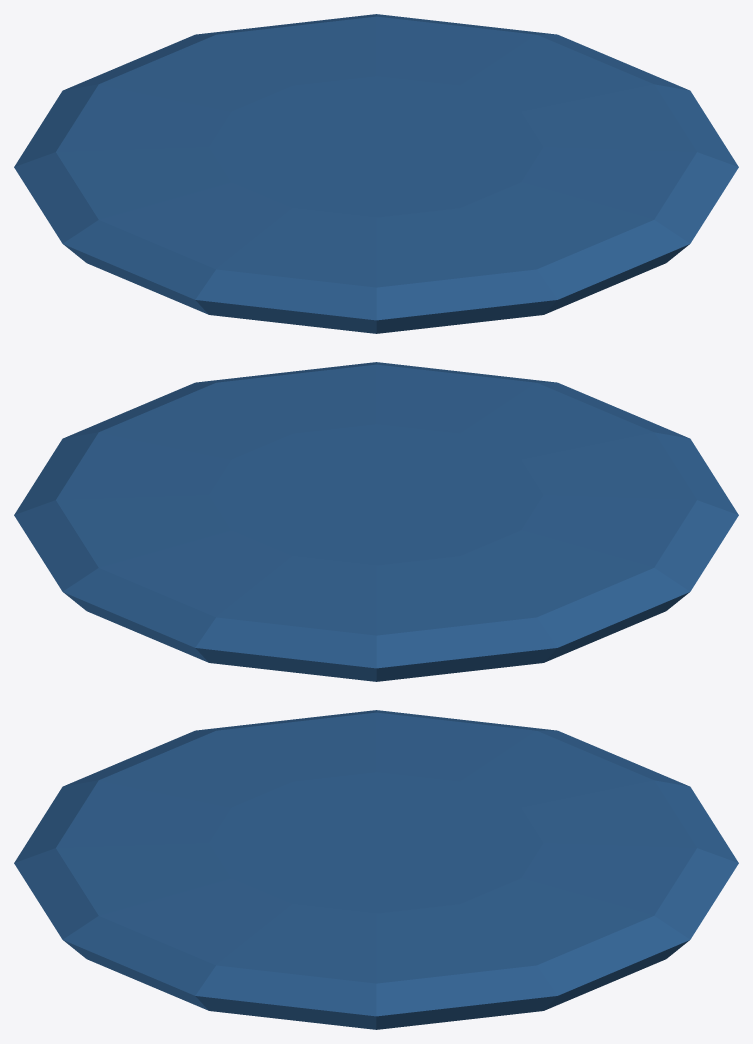
Rendered from GS_Frisbee_01.glb.
3 views of the same model, one above another, from view 1: azimuth 30°, elevation 25°; view 2: azimuth 150°, elevation 25°; view 3: azimuth 270°, elevation 25° (orthographic).
Parts seen in each view (by area): view 1: GS_Frisbee_01; view 2: GS_Frisbee_01; view 3: GS_Frisbee_01.
Part boxes in pixels (<box>): GS_Frisbee_01: <box>14,14,738,333</box>; GS_Frisbee_01: <box>14,362,738,681</box>; GS_Frisbee_01: <box>14,710,738,1029</box>.
Size of the model in its own units: 0.26 by 0.03 by 0.26.
Materials: 1 (1 with a texture image).
